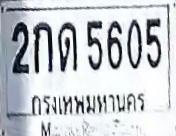0: (126, 18, 142, 69)
2: (11, 22, 29, 74)
5: (146, 18, 162, 68), (86, 20, 102, 70)
6: (106, 20, 122, 70)
A01: (33, 21, 53, 73)
A20: (59, 21, 78, 72)
BKK: (26, 89, 149, 117)
